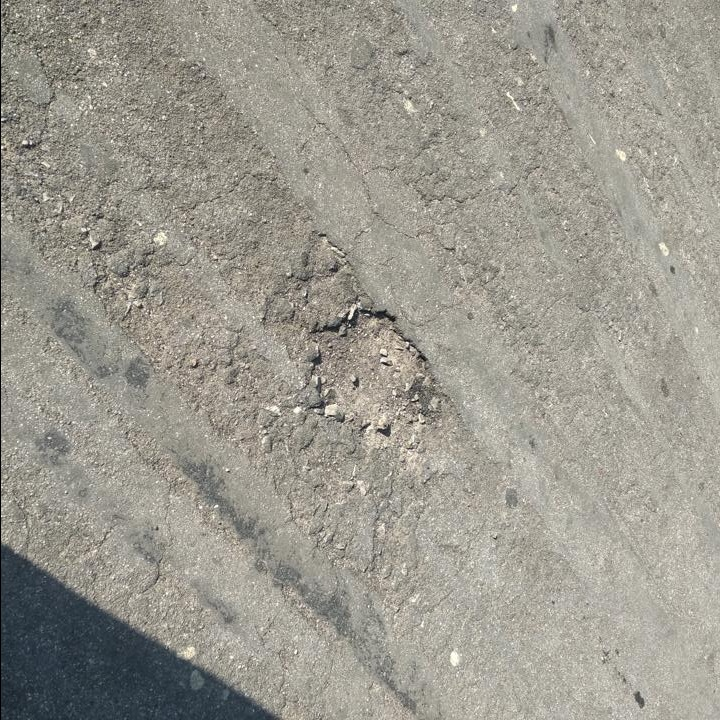pothole: (299, 297, 442, 460)
